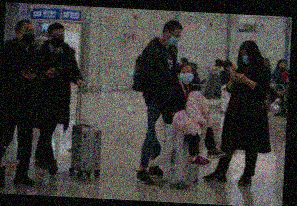with_mask: (18, 26, 35, 46), (48, 31, 64, 48), (166, 30, 181, 47), (179, 67, 194, 84), (240, 51, 252, 65)
without_mask: (280, 61, 286, 69)
